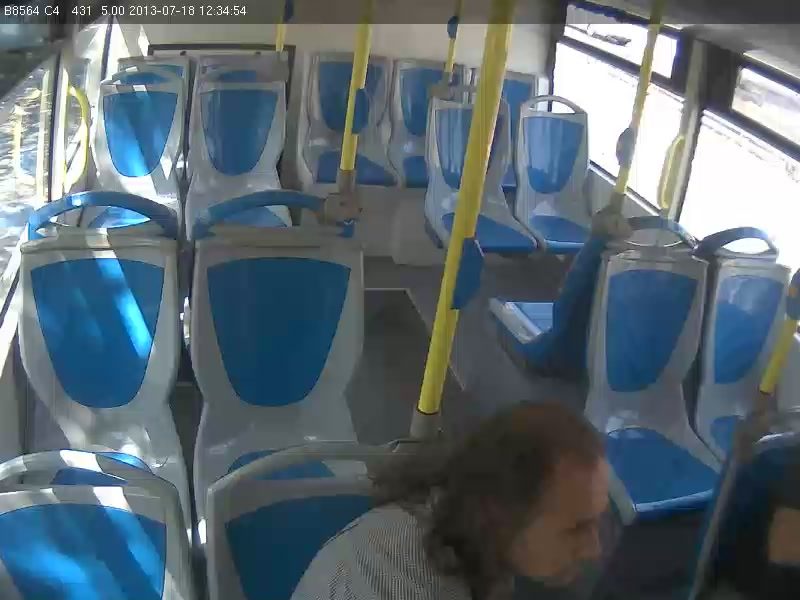Head: (473, 404, 623, 587)
